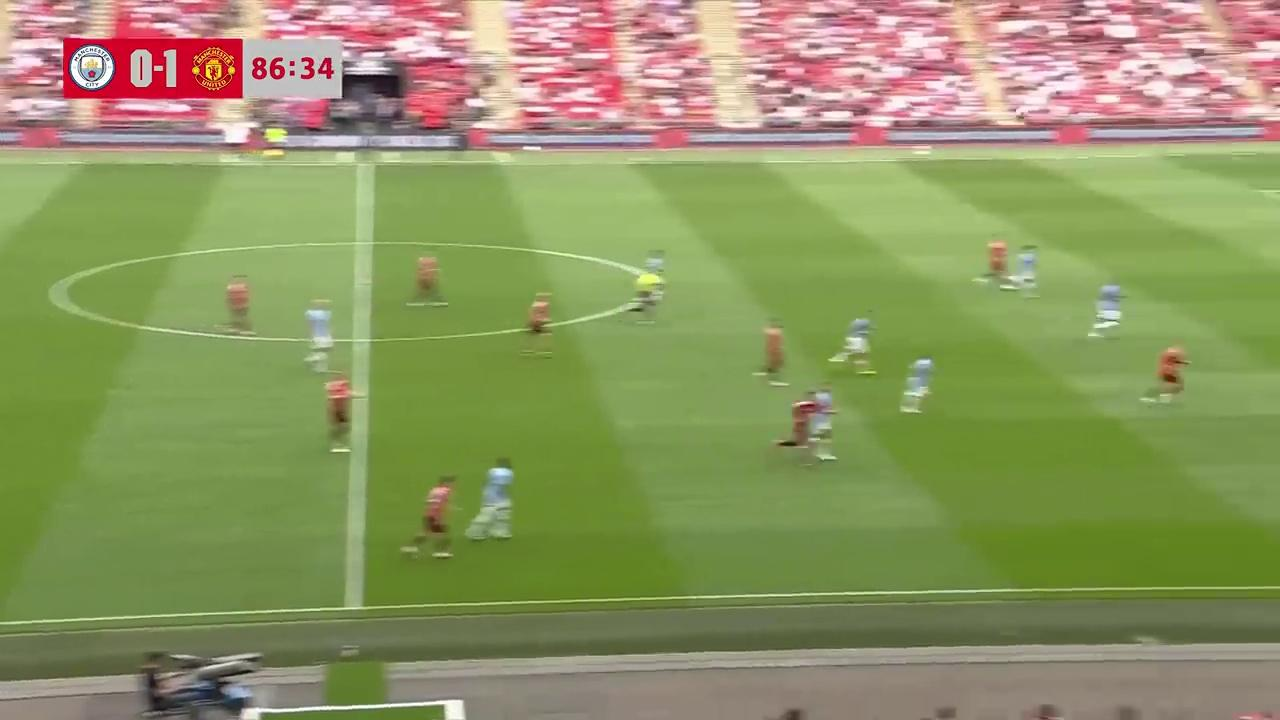ball: (771, 375, 791, 390)
player: (770, 390, 839, 462), (400, 476, 457, 559), (464, 457, 515, 542), (787, 387, 839, 455), (771, 390, 824, 455), (323, 371, 356, 453), (1149, 342, 1190, 402), (831, 314, 875, 367), (303, 301, 334, 373), (1087, 279, 1124, 337), (408, 253, 448, 306), (899, 354, 934, 412), (225, 276, 253, 336), (758, 322, 785, 382), (1009, 245, 1040, 293), (526, 292, 554, 345), (982, 236, 1009, 289), (640, 246, 669, 291)
referee: (627, 273, 663, 327), (263, 123, 284, 164)
